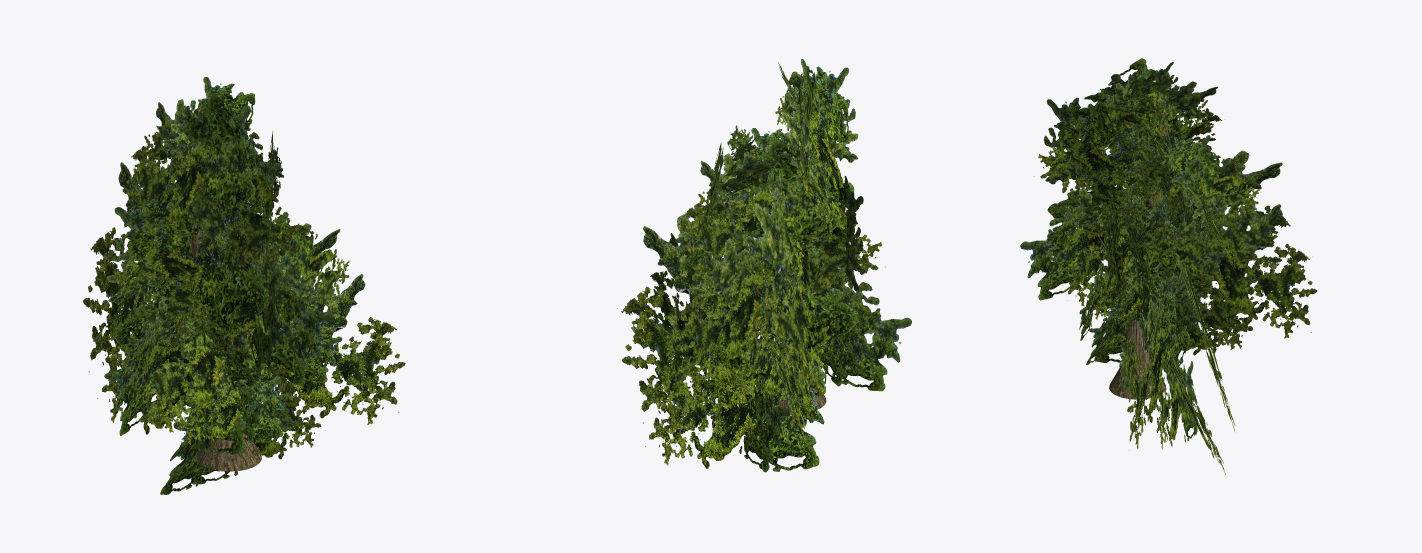
File: SM_Bush_Final.FBX
3 views of the same model, side by side, from view 1: azimuth 30°, elevation 25°; view 2: azimuth 150°, elevation 25°; view 3: azimuth 270°, elevation 25° (orthographic). The views are drawn at different scales.
Parts seen in each view (by area): view 1: Plane002, Plane005, Plane009, Plane031, Plane058, Plane004, Plane045, Plane056, Plane034, Plane052, Plane042, Plane013 (+13 smaller); view 2: Plane032, Plane043, Plane001, Plane002, Plane035, Plane005, Plane039, Plane034, Plane012, Plane042, Plane058, Plane033 (+9 smaller); view 3: Plane001, Plane030, Plane031, Plane004, Plane002, Plane017, Plane024, Plane019, Plane028, Plane042, Plane005, Plane012 (+23 smaller).
Part boxes in pixels (x1,y1,x2,y2): Plane002: (83, 159, 269, 386); Plane005: (122, 99, 256, 234); Plane009: (159, 92, 301, 268); Plane031: (259, 274, 405, 424); Plane058: (107, 196, 216, 332); Plane004: (177, 240, 334, 386); Plane045: (143, 301, 281, 432); Plane056: (177, 366, 284, 444); Plane034: (111, 282, 194, 435); Plane052: (275, 225, 349, 310); Plane042: (173, 370, 325, 484); Plane013: (97, 330, 256, 454); Plane032: (617, 209, 859, 429); Plane043: (645, 339, 824, 472); Plane001: (675, 229, 794, 391); Plane002: (745, 131, 854, 407); Plane035: (681, 152, 840, 292); Plane005: (778, 59, 849, 238); Plane039: (715, 139, 885, 293); Plane034: (757, 268, 911, 391); Plane012: (733, 320, 825, 400); Plane042: (688, 367, 789, 470); Plane058: (818, 164, 863, 291); Plane033: (819, 274, 873, 386); Plane001: (1156, 195, 1317, 338); Plane030: (1044, 97, 1137, 222); Plane031: (1127, 267, 1189, 450); Plane004: (1020, 175, 1150, 300); Plane002: (1047, 130, 1290, 300); Plane017: (1067, 193, 1179, 306); Plane024: (1172, 146, 1259, 228); Plane019: (1140, 212, 1227, 289); Plane028: (1092, 256, 1176, 329); Plane042: (1155, 357, 1197, 449); Plane005: (1072, 74, 1221, 146); Plane012: (1160, 266, 1251, 353).
Size of the model in its own units: 35.31 by 42.8 by 35.13.
2 materials, 2 textured.
